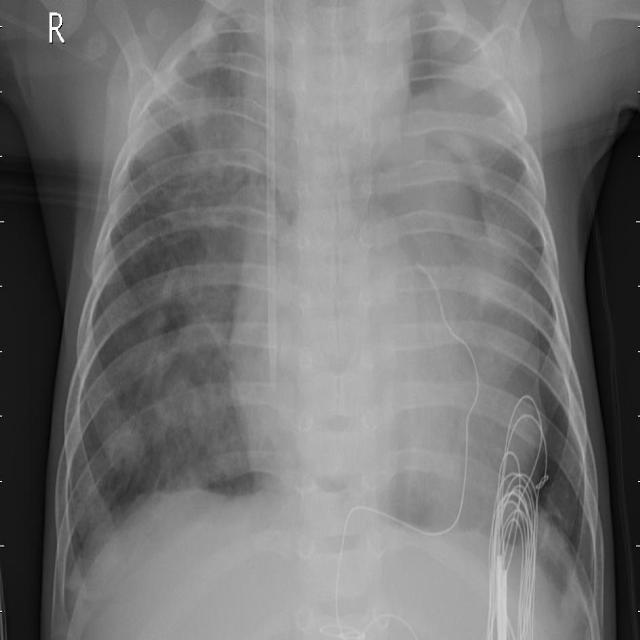high-pneumonia: (380, 49, 537, 305), (404, 280, 538, 470), (452, 441, 585, 606)
low-pneumonia: (81, 256, 240, 479), (151, 41, 265, 223)
